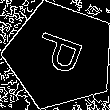P_E: (29, 30, 91, 82)
